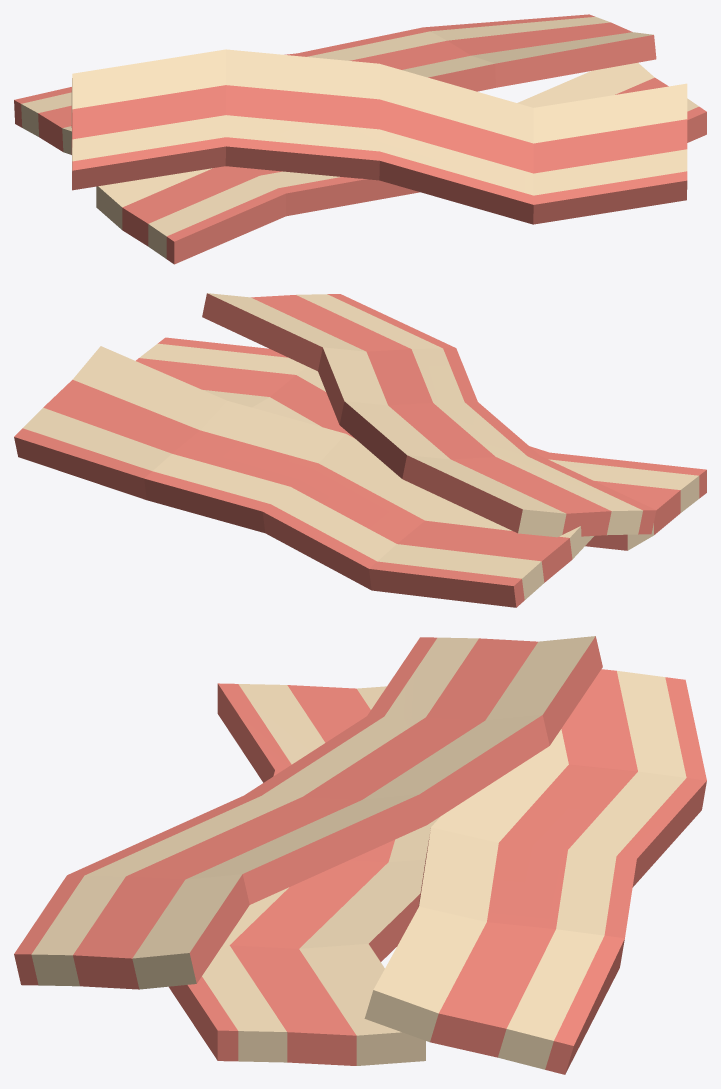
Rendered from bacon.fbx.
3 renders of one model, top to bottom at view 1: azimuth 30°, elevation 25°; view 2: azimuth 150°, elevation 25°; view 3: azimuth 270°, elevation 25°, orthographic. The views are drawn at different scales.
Parts seen in each view (by area): view 1: Bacon_01; view 2: Bacon_01; view 3: Bacon_01.
Part boxes in pixels (x1,y1,x2,y2): Bacon_01: [14, 14, 706, 264]; Bacon_01: [14, 293, 706, 607]; Bacon_01: [14, 636, 706, 1074].
Size of the model in its own units: 1384 by 202 by 1083.
